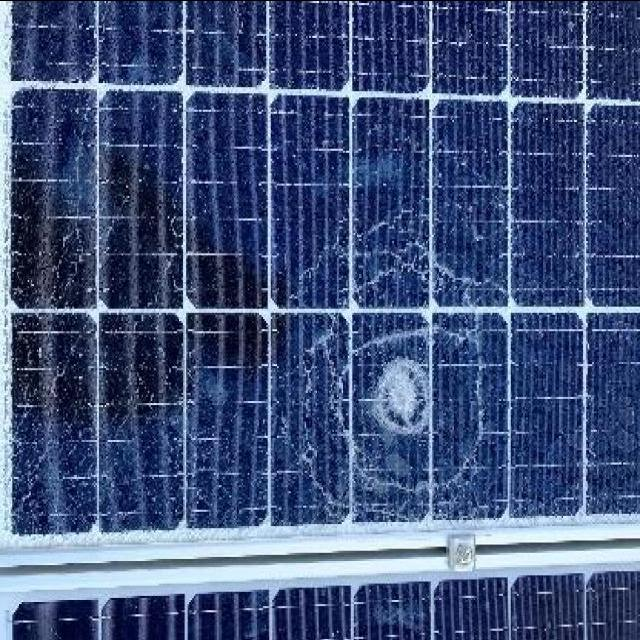cracked: (0, 6, 634, 562)
